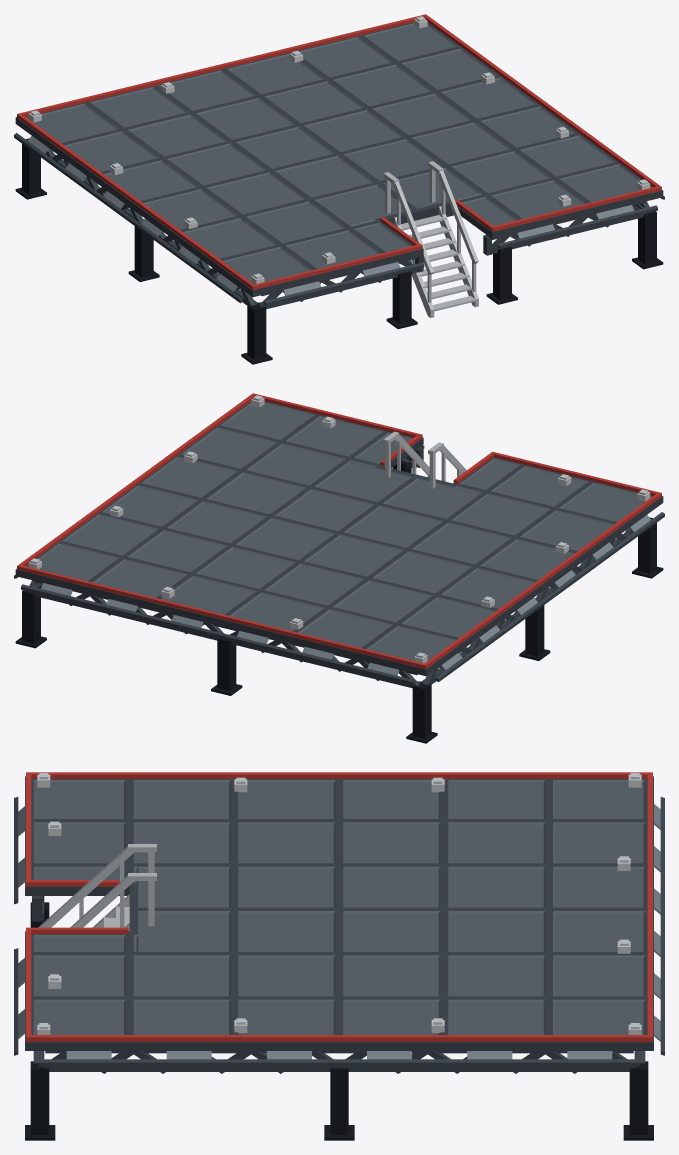
Rendered from rooftop-helipad-deck-24e53c.glb.
The picture shows the model from 3 angles, top to bottom: view 1: azimuth 30°, elevation 25°; view 2: azimuth 150°, elevation 25°; view 3: azimuth 270°, elevation 25°; orthographic projection. The views are drawn at different scales.
Parts seen in each view (by area): view 1: rooftop-helipad-deck; view 2: rooftop-helipad-deck; view 3: rooftop-helipad-deck.
Part boxes in pixels (x1,y1,x2,y2): rooftop-helipad-deck: (14,14,664,364); rooftop-helipad-deck: (14,393,664,743); rooftop-helipad-deck: (14,772,664,1140).
Bounding box in the file's own units: 12 × 3 × 12.
